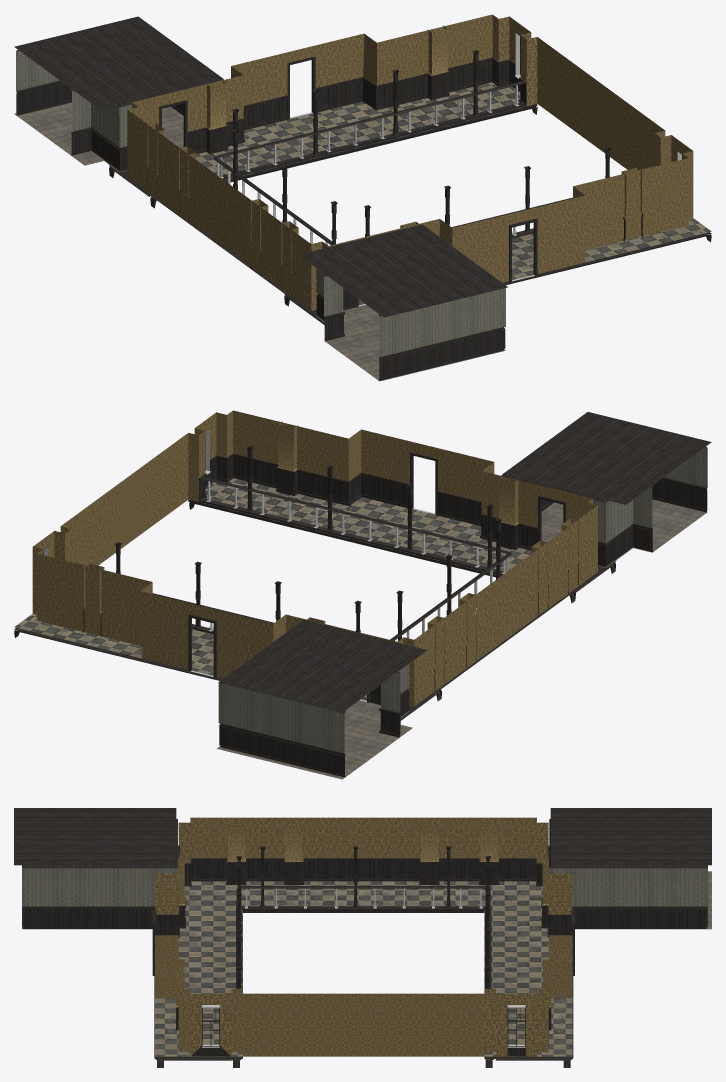
File: Lobby_Floor-A.fbx
The picture shows the model from 3 angles, top to bottom: view 1: azimuth 30°, elevation 25°; view 2: azimuth 150°, elevation 25°; view 3: azimuth 270°, elevation 25°; orthographic projection. The views are drawn at different scales.
Visible parts, largest first — view 1: 1gangobj_003_None_007; view 2: 1gangobj_003_None_007; view 3: 1gangobj_003_None_007.
Part boxes in pixels (x1,y1,x2,y2): 1gangobj_003_None_007: (14, 14, 711, 381); 1gangobj_003_None_007: (14, 410, 711, 779); 1gangobj_003_None_007: (14, 808, 711, 1067).
Size of the model in its own units: 76.58 by 14.17 by 120.
